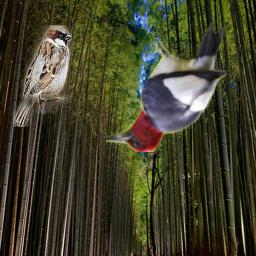Sparrow: (13, 25, 72, 127)
Woodpecker: (106, 22, 227, 152)
